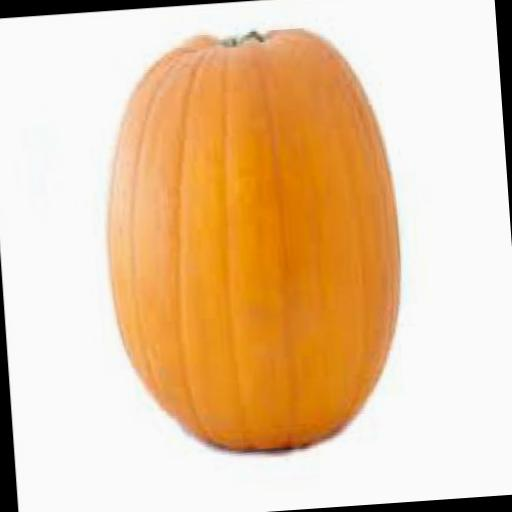biodegradable: (94, 15, 416, 458)
